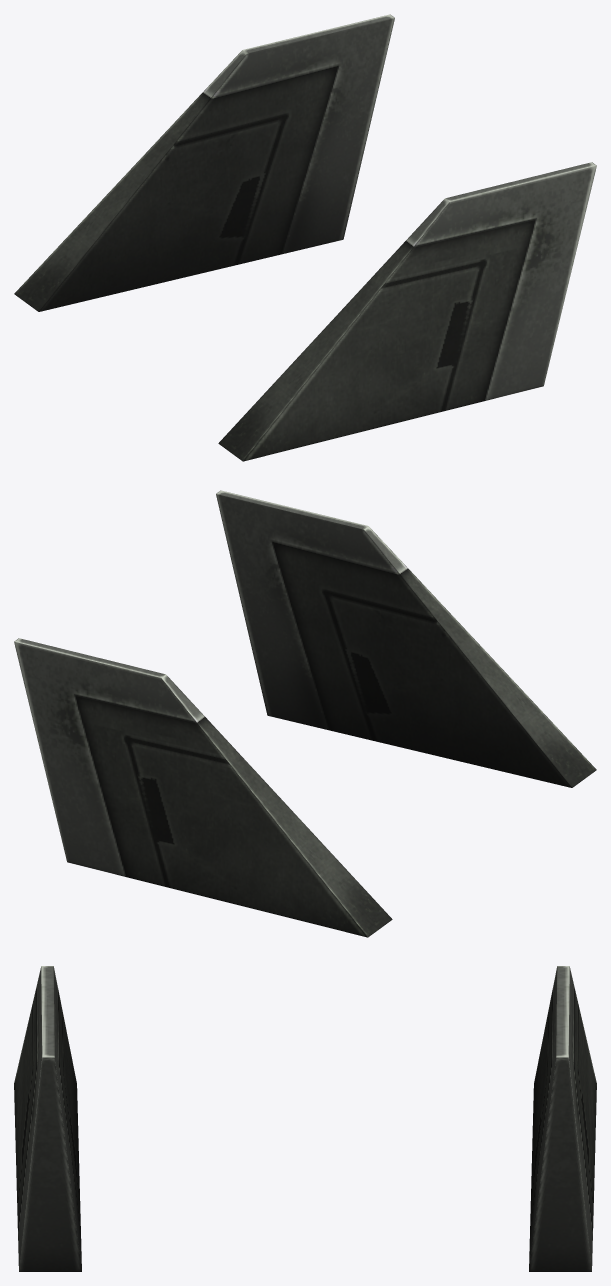
3 views of the same model, one above another, from view 1: azimuth 30°, elevation 25°; view 2: azimuth 150°, elevation 25°; view 3: azimuth 270°, elevation 25° (orthographic). The views are drawn at different scales.
Parts seen in each view (by area): view 1: space_frigate_6; view 2: space_frigate_6; view 3: space_frigate_6.
Part boxes in pixels (x1,y1,x2,y2): space_frigate_6: (14, 14, 596, 461); space_frigate_6: (14, 490, 596, 937); space_frigate_6: (14, 966, 596, 1271).
Bounding box in the file's own units: 0.095 × 0.0494 × 0.1032.
